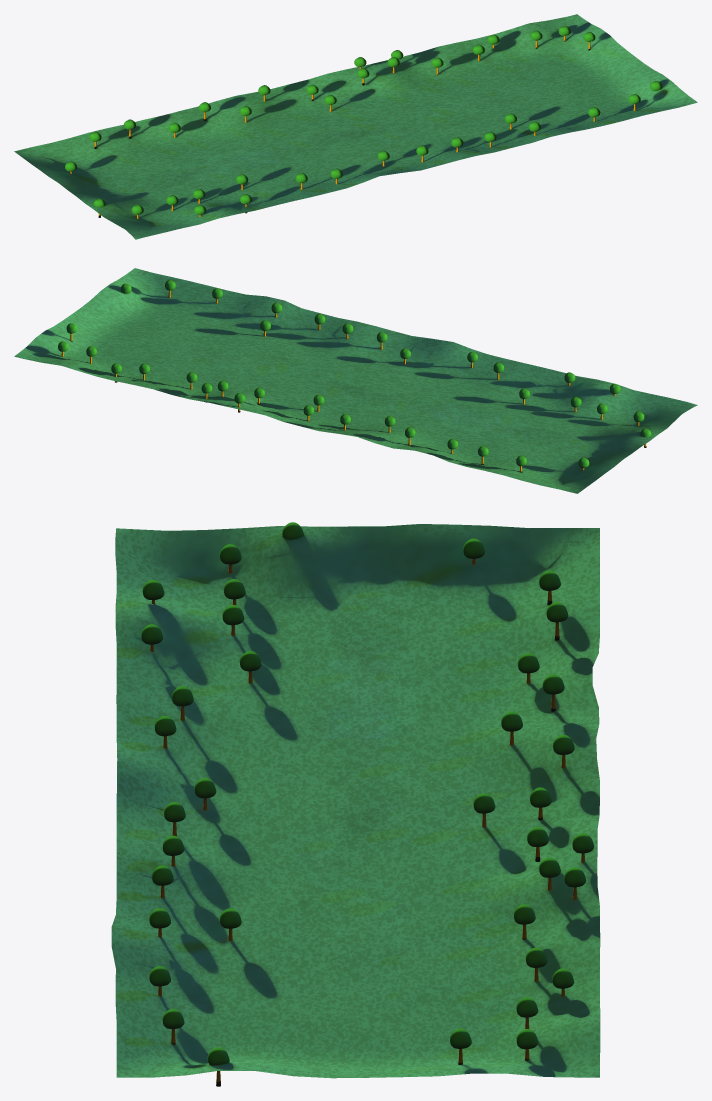
Rendered from trackbig.glb.
3 views of the same model, one above another, from view 1: azimuth 30°, elevation 25°; view 2: azimuth 150°, elevation 25°; view 3: azimuth 270°, elevation 25° (orthographic). The views are drawn at different scales.
Visible parts, largest first — view 1: Planep001p, treesp; view 2: Planep001p, treesp; view 3: Planep001p, treesp.
Boxes of the visible parts, x1=… form: Planep001p: x1=14, y1=14, x2=697, y2=239; treesp: x1=65, y1=25, x2=662, y2=218; Planep001p: x1=14, y1=268, x2=697, y2=493; treesp: x1=58, y1=280, x2=651, y2=472; Planep001p: x1=111, y1=524, x2=600, y2=1078; treesp: x1=141, y1=522, x2=594, y2=1086.
Size of what is drawn, in the model's own units: 1080 by 46.4 by 405.
Materials: 3 (3 with a texture image).
